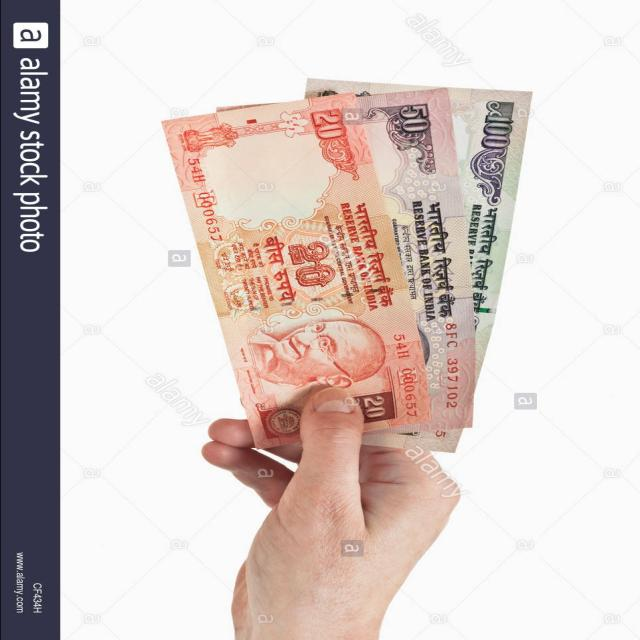20IndianRupees: (157, 94, 446, 448)
